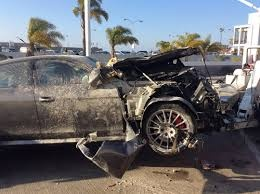Smashed: (88, 46, 220, 147)
